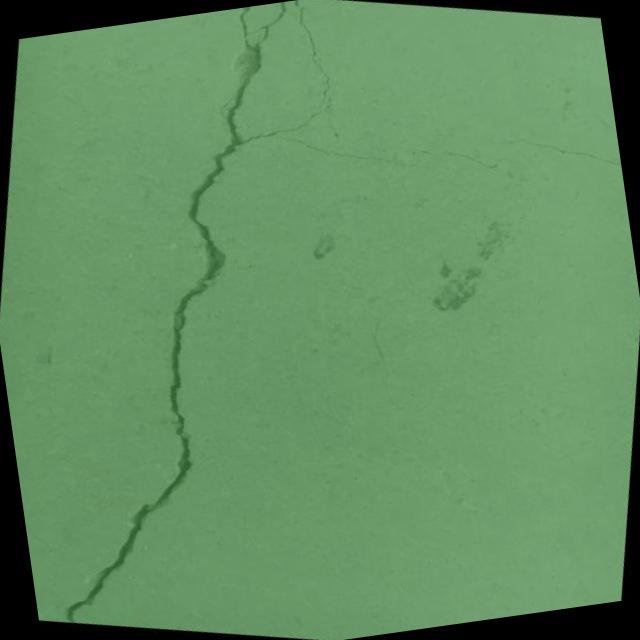crack: (0, 0, 530, 640), (470, 117, 623, 198), (406, 132, 536, 189), (24, 509, 82, 562), (42, 573, 64, 612)
